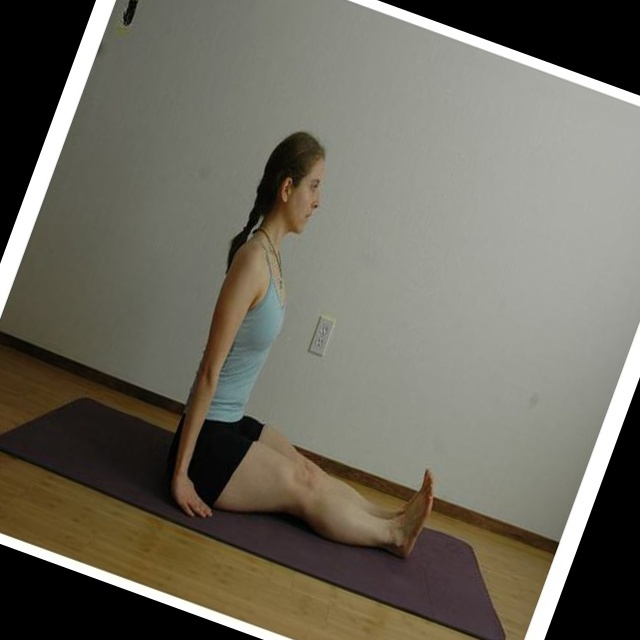Staff_Pose: (169, 130, 436, 559)
